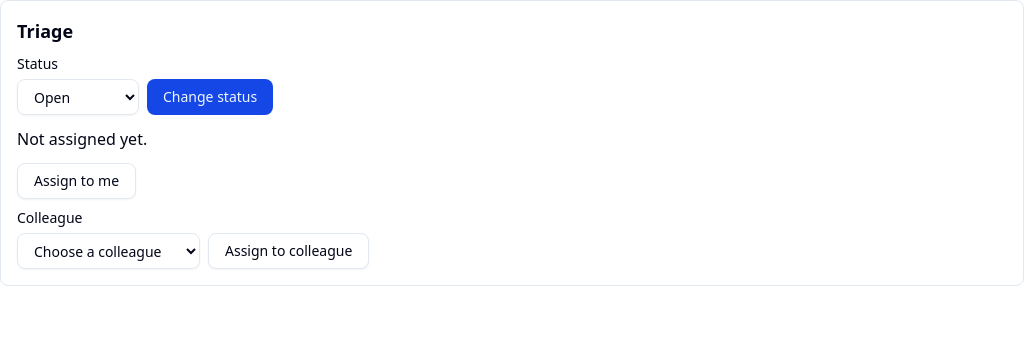
staff change the status in the ticket’s own tenant
Select "Resolved" in the dropdown labelled "Status": {"x": 78, "y": 97} [17, 79, 139, 115]
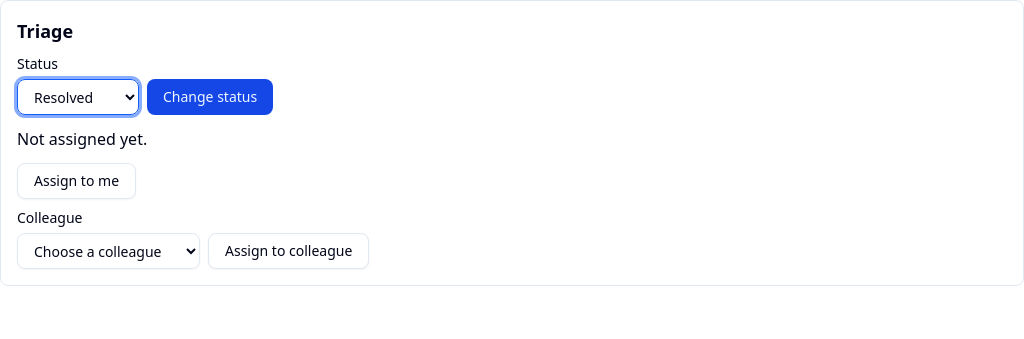
Click the button "Change status": {"x": 210, "y": 97} [147, 79, 273, 115]
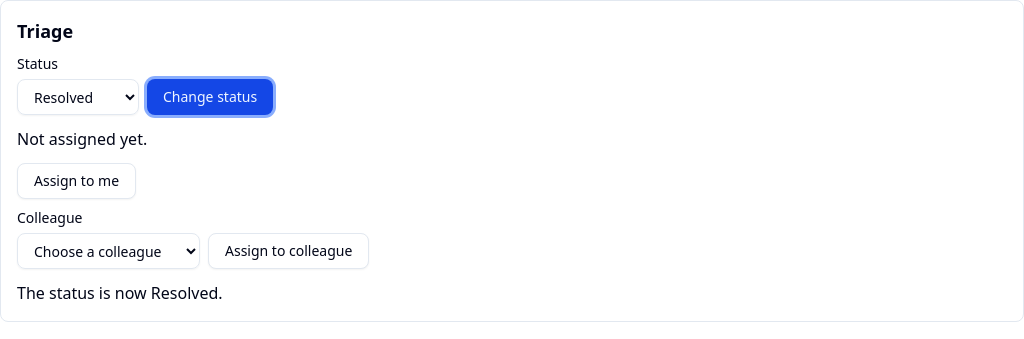
Check: the message reads "The status is now Resolved.", box [17, 282, 222, 304]
